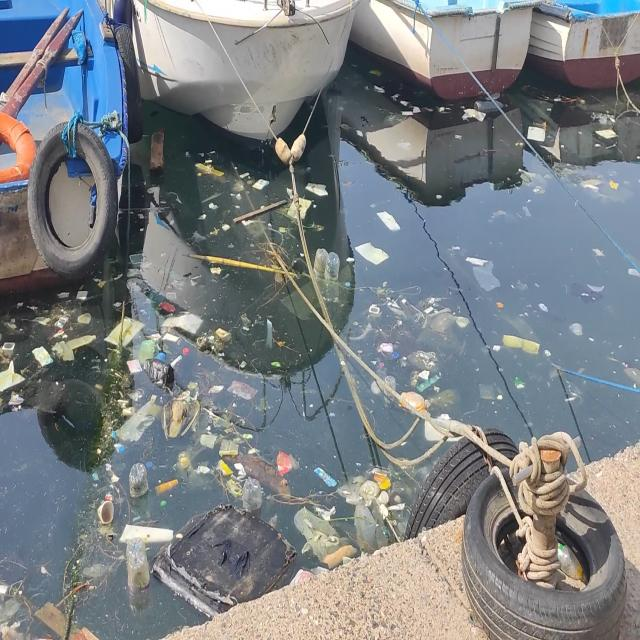Bottle cap: (144, 458, 155, 472), (390, 350, 399, 361), (118, 444, 126, 456), (182, 345, 190, 357), (159, 498, 167, 509), (435, 192, 443, 202), (344, 280, 351, 288), (378, 362, 385, 368)
Plastic: (112, 397, 160, 445), (104, 310, 146, 350), (466, 253, 502, 293), (52, 334, 98, 364), (117, 523, 175, 546), (161, 310, 204, 337), (501, 332, 542, 358), (354, 240, 391, 266), (1, 359, 26, 392), (286, 195, 312, 223), (226, 378, 258, 400), (375, 208, 401, 234), (194, 159, 226, 180), (347, 322, 376, 343), (304, 181, 330, 197), (462, 106, 486, 123), (104, 462, 121, 486), (314, 505, 336, 522), (478, 382, 497, 401), (487, 208, 507, 224), (233, 461, 247, 483), (126, 358, 144, 375), (189, 228, 207, 245), (397, 136, 413, 154), (240, 309, 251, 335), (251, 176, 270, 191), (77, 312, 93, 328), (196, 463, 210, 478), (75, 289, 89, 303), (522, 203, 532, 220), (209, 264, 223, 276), (592, 246, 604, 259), (56, 290, 71, 300), (538, 302, 550, 314), (491, 342, 502, 355), (208, 200, 220, 211), (220, 221, 231, 233), (345, 254, 356, 264), (197, 212, 207, 222), (453, 132, 463, 142), (112, 300, 122, 308)
Plastic bag: (292, 503, 352, 562), (568, 278, 606, 308), (142, 354, 175, 388), (517, 166, 549, 198), (425, 386, 463, 411), (407, 348, 439, 374), (172, 450, 196, 480)
Plastic bottle: (125, 549, 152, 594), (127, 459, 150, 502), (123, 536, 149, 574), (242, 475, 265, 513), (323, 249, 340, 285), (312, 247, 329, 282), (474, 99, 509, 116), (384, 373, 397, 408)
Plastic cup: (96, 498, 116, 529), (129, 252, 149, 270), (215, 325, 233, 344), (2, 340, 16, 360), (568, 321, 584, 338), (454, 314, 470, 330), (368, 305, 382, 321), (165, 291, 176, 301)
Plastic packaging: (312, 465, 337, 488), (274, 449, 293, 478), (32, 343, 54, 368), (214, 458, 234, 477), (157, 299, 176, 315), (47, 328, 69, 341), (8, 390, 24, 407), (513, 373, 526, 391), (269, 359, 283, 370), (609, 178, 620, 190), (92, 471, 100, 482)
Undefined trash: (150, 500, 296, 613)
Wood: (182, 250, 296, 280), (32, 597, 103, 640), (231, 198, 288, 225), (148, 123, 168, 178)
